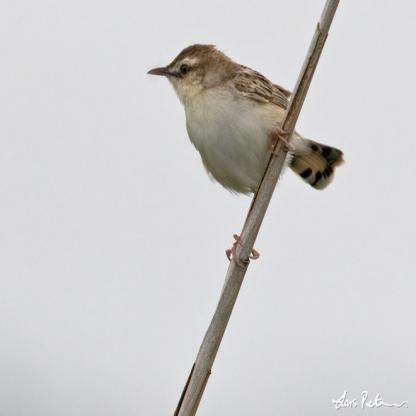Burung: (146, 44, 343, 197)
